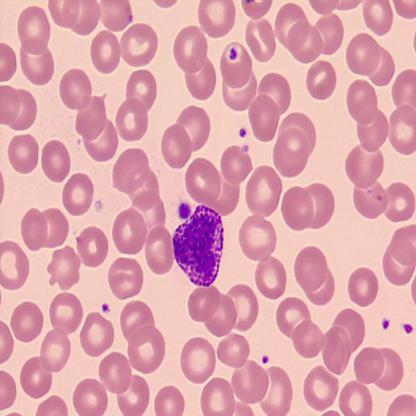Basophil: (171, 202, 228, 289)
